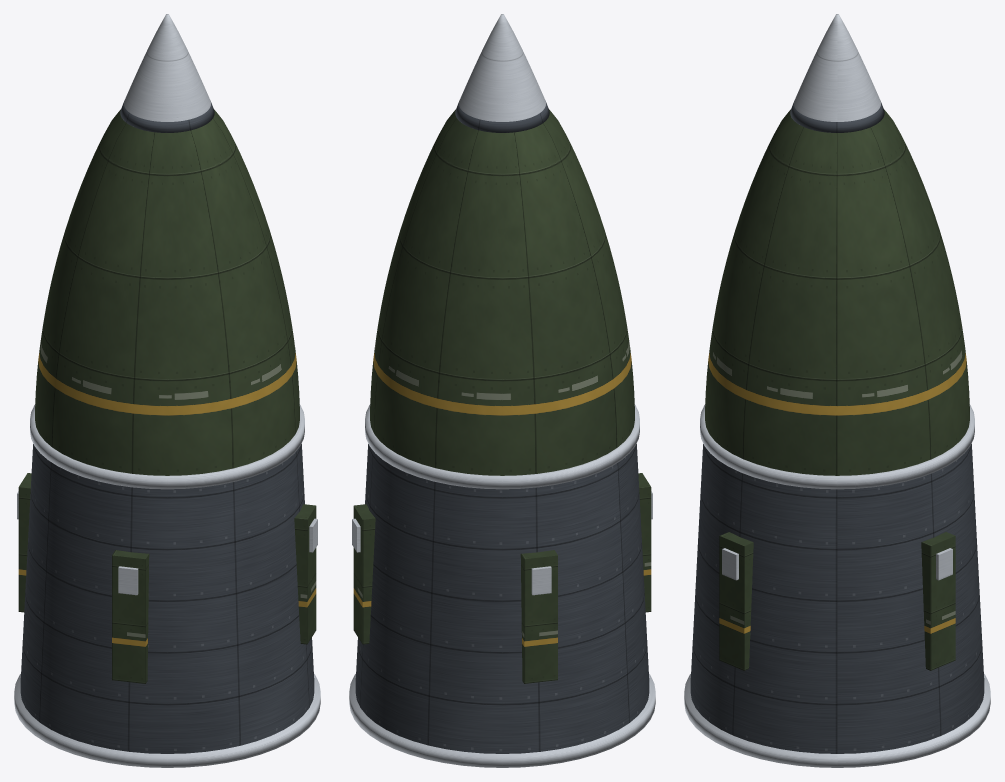
The model's file is light_icbm_warhead.glb.
3 views of the same model, side by side, from view 1: azimuth 30°, elevation 25°; view 2: azimuth 150°, elevation 25°; view 3: azimuth 270°, elevation 25° (orthographic).
Visible parts, largest first — view 1: Light_ICBM_Missile; view 2: Light_ICBM_Missile; view 3: Light_ICBM_Missile.
Boxes of the visible parts, <box> form: Light_ICBM_Missile: <box>14,14,320,767</box>; Light_ICBM_Missile: <box>349,14,655,767</box>; Light_ICBM_Missile: <box>684,14,990,767</box>.
Bounding box in the file's own units: 0.49 × 1.21 × 0.49.
Materials: 4 (4 with a texture image).
